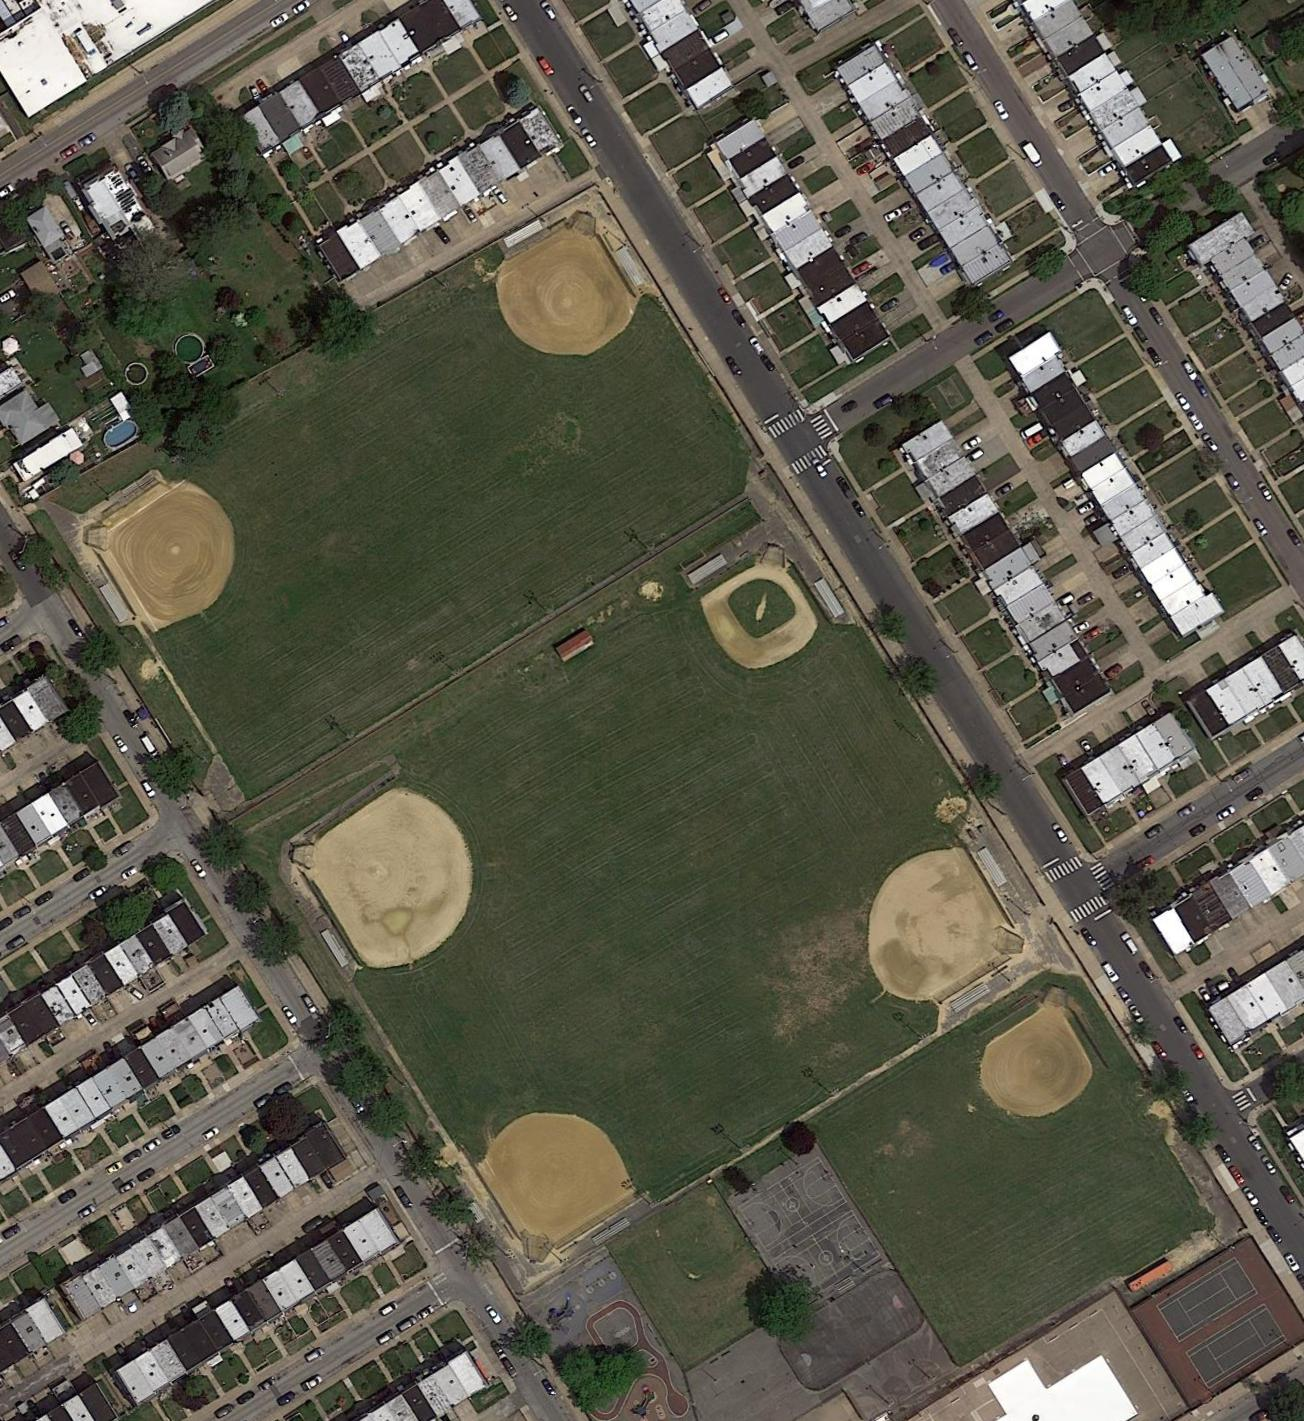ship: (926, 253, 952, 274)
